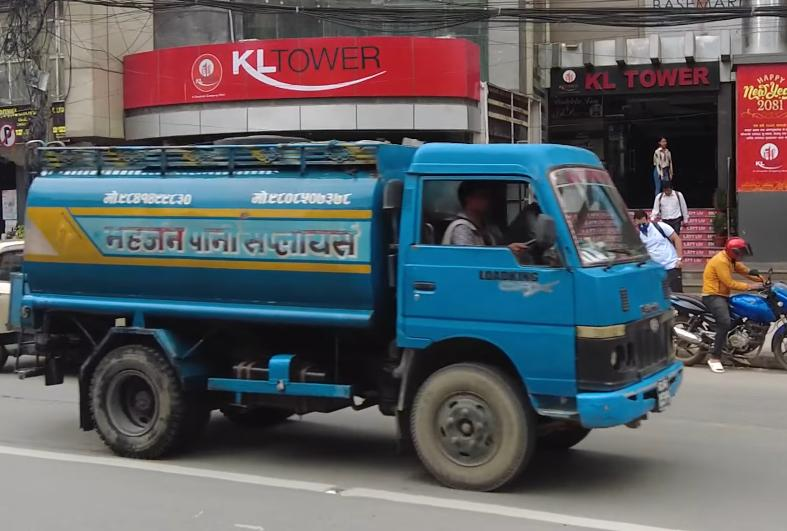bike: (656, 232, 787, 373)
mini_truck: (24, 132, 687, 492)
